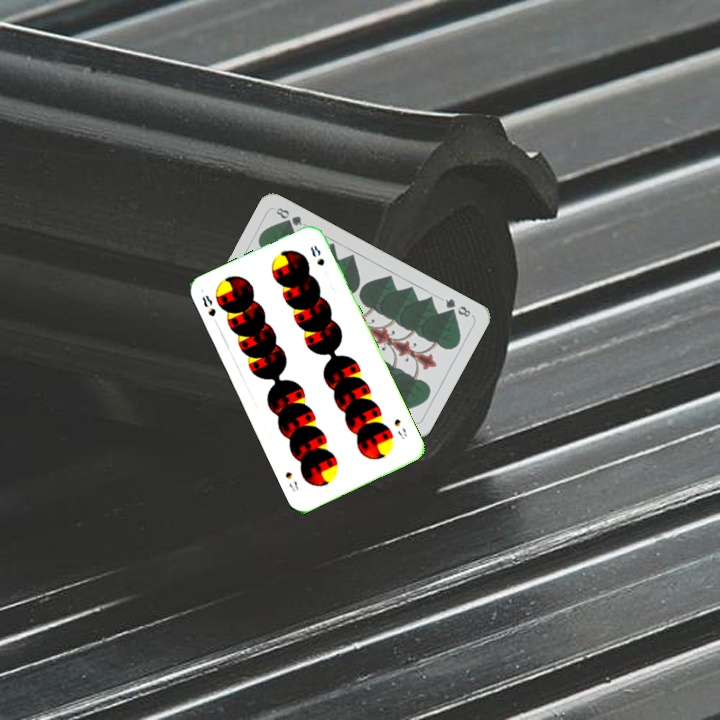G8: (441, 294, 473, 320)
S8: (198, 291, 221, 329), (390, 414, 410, 442)
